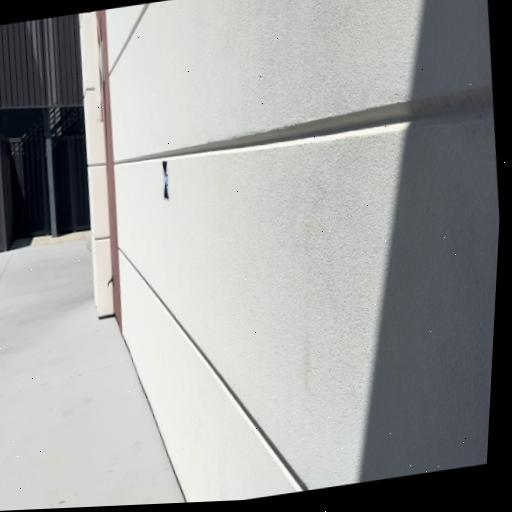target7: (161, 160, 172, 199)
